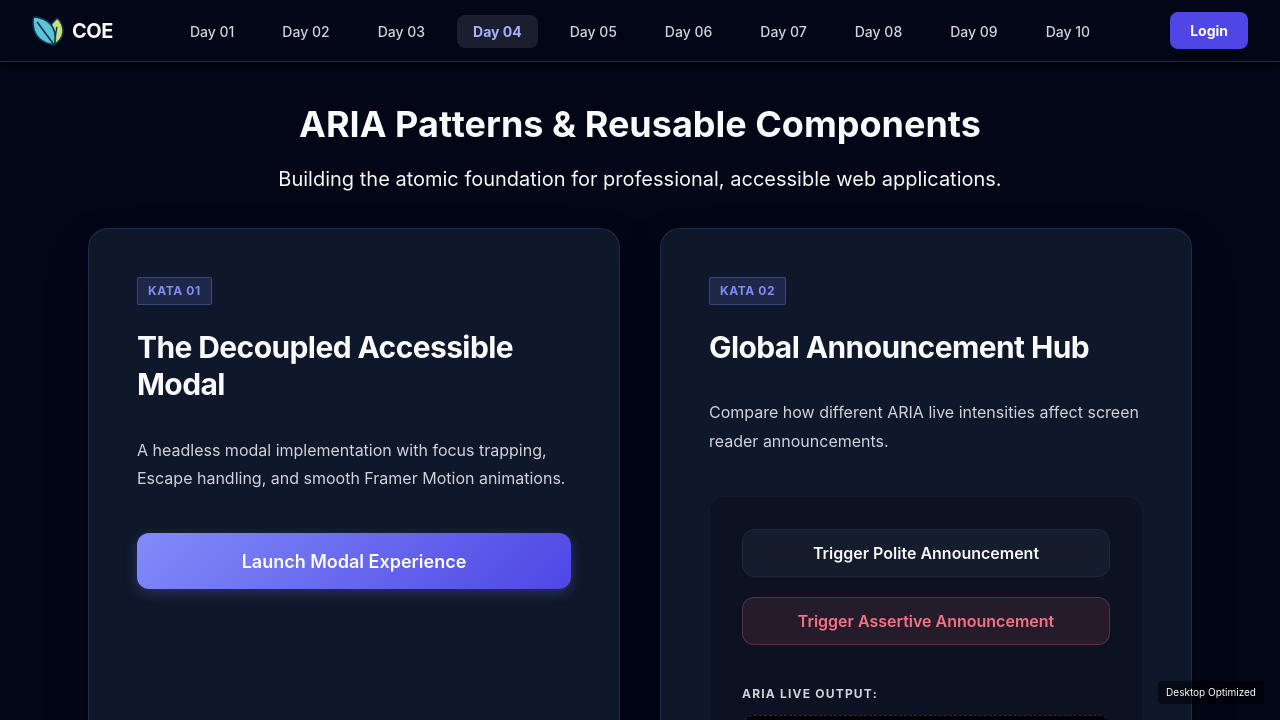
Test case: Day 04: ARIA Patterns & Accessible Components › Accessible Modal KATA › closes on Escape key
Click the button "Launch Modal Experience".
click(354, 561)  # box [137,533,571,589]
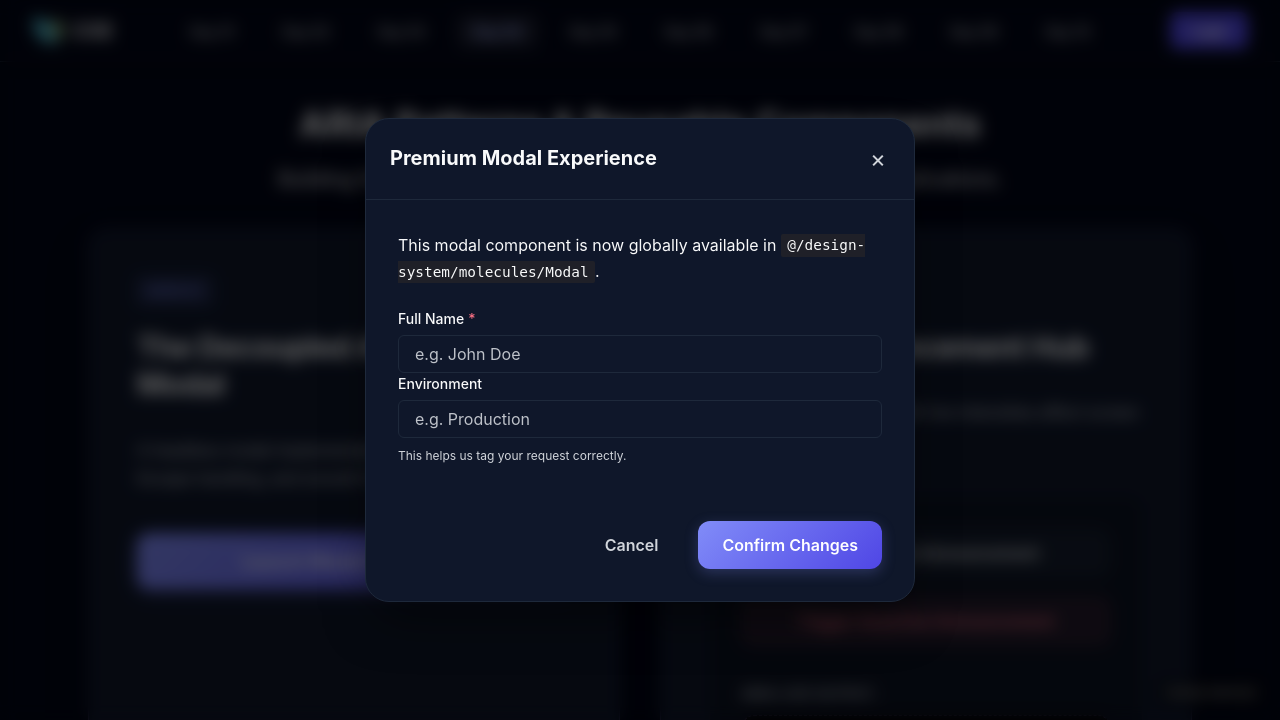
Now the dialog is shown, box [365,118,915,603]
Press Esc
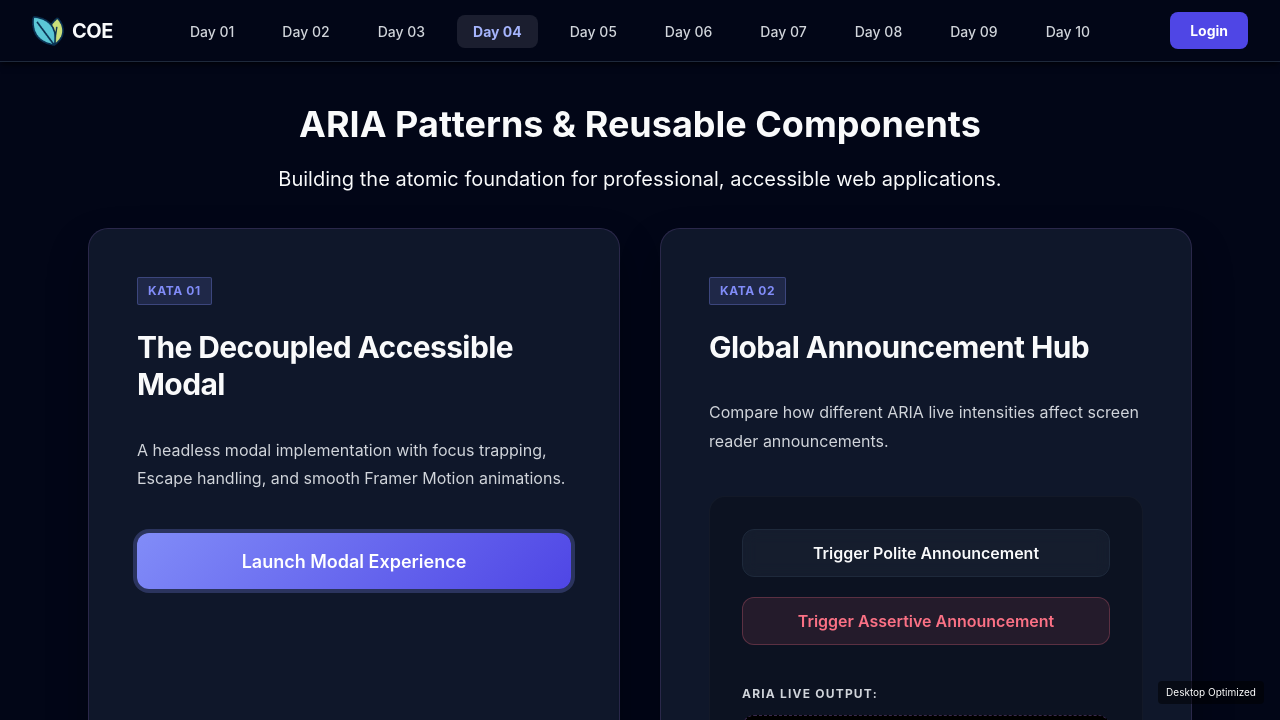
Now the dialog is gone
